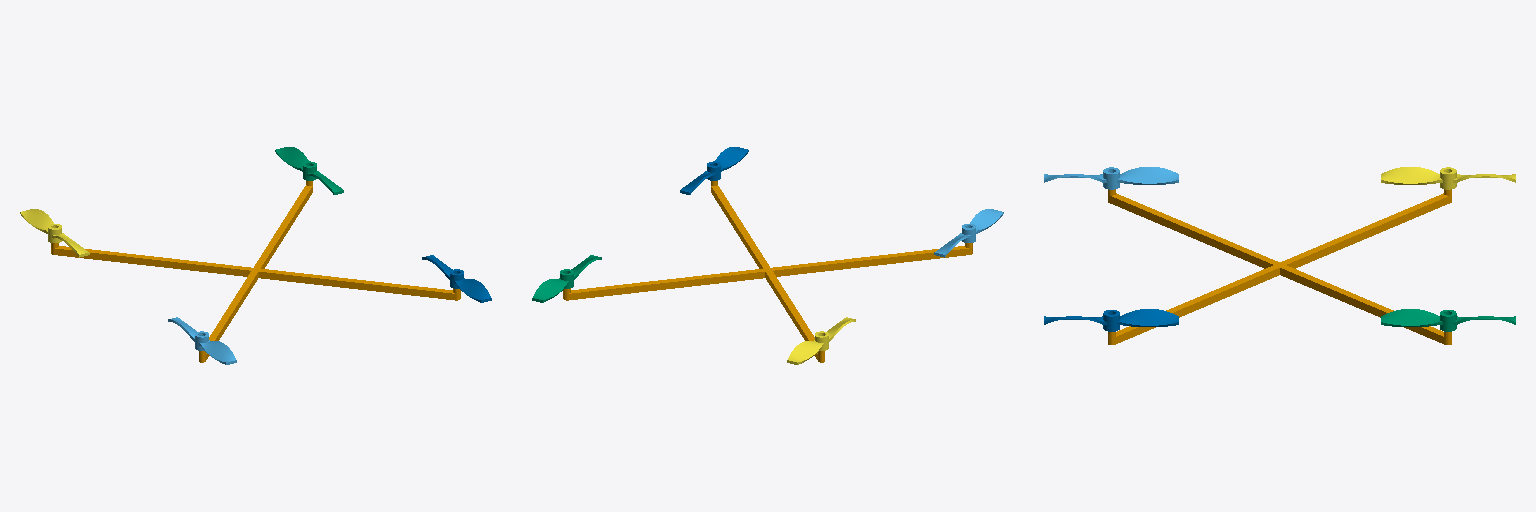
robot.urdf — Rotor:
<?xml version="1.0" ?>
<robot name="Rotor">

<material name="silver">
  <color rgba="0.700 0.700 0.700 1.000"/>
</material>

<link name="base_link">
  <inertial>
    <origin xyz="0.10000000000001949 0.10000000000000002 0.002884290516558664" rpy="0 0 0"/>
    <mass value="0.11749526030038039"/>
    <inertia ixx="0.00044560918947899697" iyy="0.0004456091894824621" izz="0.000890004959709422" ixy="-4.336808689942018e-19" iyz="-6.776263578034403e-21" ixz="-1.0679391398982219e-17"/>
  </inertial>
  <visual>
    <origin xyz="0 0 0" rpy="0 0 0"/>
    <geometry>
      <mesh filename="meshes/base_link.stl" scale="0.001 0.001 0.001"/>
    </geometry>
    <material name="silver"/>
    <material/>
  </visual>
  <collision>
    <origin xyz="0 0 0" rpy="0 0 0"/>
    <geometry>
      <mesh filename="meshes/base_link.stl" scale="0.001 0.001 0.001"/>
    </geometry>
  </collision>
</link>

<link name="Component11">
  <inertial>
    <origin xyz="-2.7977465679156427e-14 6.497339917559048e-12 0.0007897655677756247" rpy="0 0 0"/>
    <mass value="0.014402733566216627"/>
    <inertia ixx="5.911247396864762e-06" iyy="1.833184980894708e-07" izz="5.965595713929709e-06" ixy="1.1461323116584483e-08" iyz="7.390846252426175e-17" ixz="-3.1778044524928783e-19"/>
  </inertial>
  <visual>
    <origin xyz="-0.0 -0.0 -0.0151" rpy="0 0 0"/>
    <geometry>
      <mesh filename="meshes/Component11.stl" scale="0.001 0.001 0.001"/>
    </geometry>
    <material name="silver"/>
    <material/>
  </visual>
  <collision>
    <origin xyz="-0.0 -0.0 -0.0151" rpy="0 0 0"/>
    <geometry>
      <mesh filename="meshes/Component11.stl" scale="0.001 0.001 0.001"/>
    </geometry>
  </collision>
</link>

<link name="Component21">
  <inertial>
    <origin xyz="2.7949864644938316e-14 6.497330451438188e-12 0.0007897655677756316" rpy="0 0 0"/>
    <mass value="0.014402733566216627"/>
    <inertia ixx="5.911247396864867e-06" iyy="1.8331849808950976e-07" izz="5.965595713929928e-06" ixy="-1.1461323116707806e-08" iyz="7.39019305820432e-17" ixz="3.049318610115481e-19"/>
  </inertial>
  <visual>
    <origin xyz="-0.2 -0.2 -0.0151" rpy="0 0 0"/>
    <geometry>
      <mesh filename="meshes/Component21.stl" scale="0.001 0.001 0.001"/>
    </geometry>
    <material name="silver"/>
    <material/>
  </visual>
  <collision>
    <origin xyz="-0.2 -0.2 -0.0151" rpy="0 0 0"/>
    <geometry>
      <mesh filename="meshes/Component21.stl" scale="0.001 0.001 0.001"/>
    </geometry>
  </collision>
</link>

<link name="Component31">
  <inertial>
    <origin xyz="2.7962933039334363e-14 6.497330451438188e-12 0.0007897655677756247" rpy="0 0 0"/>
    <mass value="0.014402733566216627"/>
    <inertia ixx="5.911247396864759e-06" iyy="1.833184980894725e-07" izz="5.965595713929711e-06" ixy="-1.1461323116583767e-08" iyz="7.390870684562123e-17" ixz="3.1756062656712757e-19"/>
  </inertial>
  <visual>
    <origin xyz="-0.0 -0.2 -0.0151" rpy="0 0 0"/>
    <geometry>
      <mesh filename="meshes/Component31.stl" scale="0.001 0.001 0.001"/>
    </geometry>
    <material name="silver"/>
    <material/>
  </visual>
  <collision>
    <origin xyz="-0.0 -0.2 -0.0151" rpy="0 0 0"/>
    <geometry>
      <mesh filename="meshes/Component31.stl" scale="0.001 0.001 0.001"/>
    </geometry>
  </collision>
</link>

<link name="Component41">
  <inertial>
    <origin xyz="-2.808864252301646e-14 6.4973599015734894e-12 0.0007897655677756178" rpy="0 0 0"/>
    <mass value="0.014402733566216627"/>
    <inertia ixx="5.911247396864784e-06" iyy="1.8331849808983502e-07" izz="5.965595713930036e-06" ixy="1.1461323116584083e-08" iyz="7.391086159219711e-17" ixz="-3.3203691532368573e-19"/>
  </inertial>
  <visual>
    <origin xyz="-0.2 -0.0 -0.0151" rpy="0 0 0"/>
    <geometry>
      <mesh filename="meshes/Component41.stl" scale="0.001 0.001 0.001"/>
    </geometry>
    <material name="silver"/>
    <material/>
  </visual>
  <collision>
    <origin xyz="-0.2 -0.0 -0.0151" rpy="0 0 0"/>
    <geometry>
      <mesh filename="meshes/Component41.stl" scale="0.001 0.001 0.001"/>
    </geometry>
  </collision>
</link>

<joint name="Revolute_1" type="continuous">
  <origin xyz="0.0 0.0 0.0151" rpy="0 0 0"/>
  <parent link="base_link"/>
  <child link="Component11"/>
  <axis xyz="0.0 0.0 1.0"/>
</joint>
<transmission name="Revolute_1_tran">
  <type>transmission_interface/SimpleTransmission</type>
  <joint name="Revolute_1">
    <hardwareInterface>PositionJointInterface</hardwareInterface>
  </joint>
  <actuator name="Revolute_1_actr">
    <hardwareInterface>PositionJointInterface</hardwareInterface>
    <mechanicalReduction>1</mechanicalReduction>
  </actuator>
</transmission>

<joint name="Revolute_2" type="continuous">
  <origin xyz="0.2 0.2 0.0151" rpy="0 0 0"/>
  <parent link="base_link"/>
  <child link="Component21"/>
  <axis xyz="0.0 0.0 1.0"/>
</joint>
<transmission name="Revolute_2_tran">
  <type>transmission_interface/SimpleTransmission</type>
  <joint name="Revolute_2">
    <hardwareInterface>PositionJointInterface</hardwareInterface>
  </joint>
  <actuator name="Revolute_2_actr">
    <hardwareInterface>PositionJointInterface</hardwareInterface>
    <mechanicalReduction>1</mechanicalReduction>
  </actuator>
</transmission>

<joint name="Revolute_3" type="continuous">
  <origin xyz="0.0 0.2 0.0151" rpy="0 0 0"/>
  <parent link="base_link"/>
  <child link="Component31"/>
  <axis xyz="0.0 0.0 1.0"/>
</joint>
<transmission name="Revolute_3_tran">
  <type>transmission_interface/SimpleTransmission</type>
  <joint name="Revolute_3">
    <hardwareInterface>PositionJointInterface</hardwareInterface>
  </joint>
  <actuator name="Revolute_3_actr">
    <hardwareInterface>PositionJointInterface</hardwareInterface>
    <mechanicalReduction>1</mechanicalReduction>
  </actuator>
</transmission>

<joint name="Revolute_4" type="continuous">
  <origin xyz="0.2 0.0 0.0151" rpy="0 0 0"/>
  <parent link="base_link"/>
  <child link="Component41"/>
  <axis xyz="0.0 0.0 1.0"/>
</joint>
<transmission name="Revolute_4_tran">
  <type>transmission_interface/SimpleTransmission</type>
  <joint name="Revolute_4">
    <hardwareInterface>PositionJointInterface</hardwareInterface>
  </joint>
  <actuator name="Revolute_4_actr">
    <hardwareInterface>PositionJointInterface</hardwareInterface>
    <mechanicalReduction>1</mechanicalReduction>
  </actuator>
</transmission>

</robot>

--- Render facts (derived) ---
Views: 3 orthographic renders of the robot side by side, from view 1: azimuth 30°, elevation 25°; view 2: azimuth 150°, elevation 25°; view 3: azimuth 270°, elevation 25°.
Robot: Rotor — 5 links, 4 joints (4 continuous); root link base_link; default pose: all joints at 0.
Visible links, largest first — view 1: base_link, Component31, Component21, Component41, Component11; view 2: base_link, Component11, Component41, Component21, Component31; view 3: base_link, Component11, Component31, Component21, Component41.
Boxes of the visible links, <box> form: base_link: <box>51,181,460,362</box>; Component31: <box>20,209,89,257</box>; Component21: <box>275,147,343,194</box>; Component41: <box>422,255,491,302</box>; Component11: <box>168,317,236,364</box>; base_link: <box>563,181,972,362</box>; Component11: <box>934,209,1003,257</box>; Component41: <box>680,147,748,194</box>; Component21: <box>532,255,601,302</box>; Component31: <box>787,317,855,364</box>; base_link: <box>1108,189,1451,344</box>; Component11: <box>1044,167,1178,189</box>; Component31: <box>1381,167,1515,189</box>; Component21: <box>1381,309,1515,331</box>; Component41: <box>1044,309,1178,331</box>.
Size in the robot's own frame: 0.2118 by 0.28 by 0.0206 metres.
5 mesh visuals loaded from 5 distinct referenced files (5 binary STL).